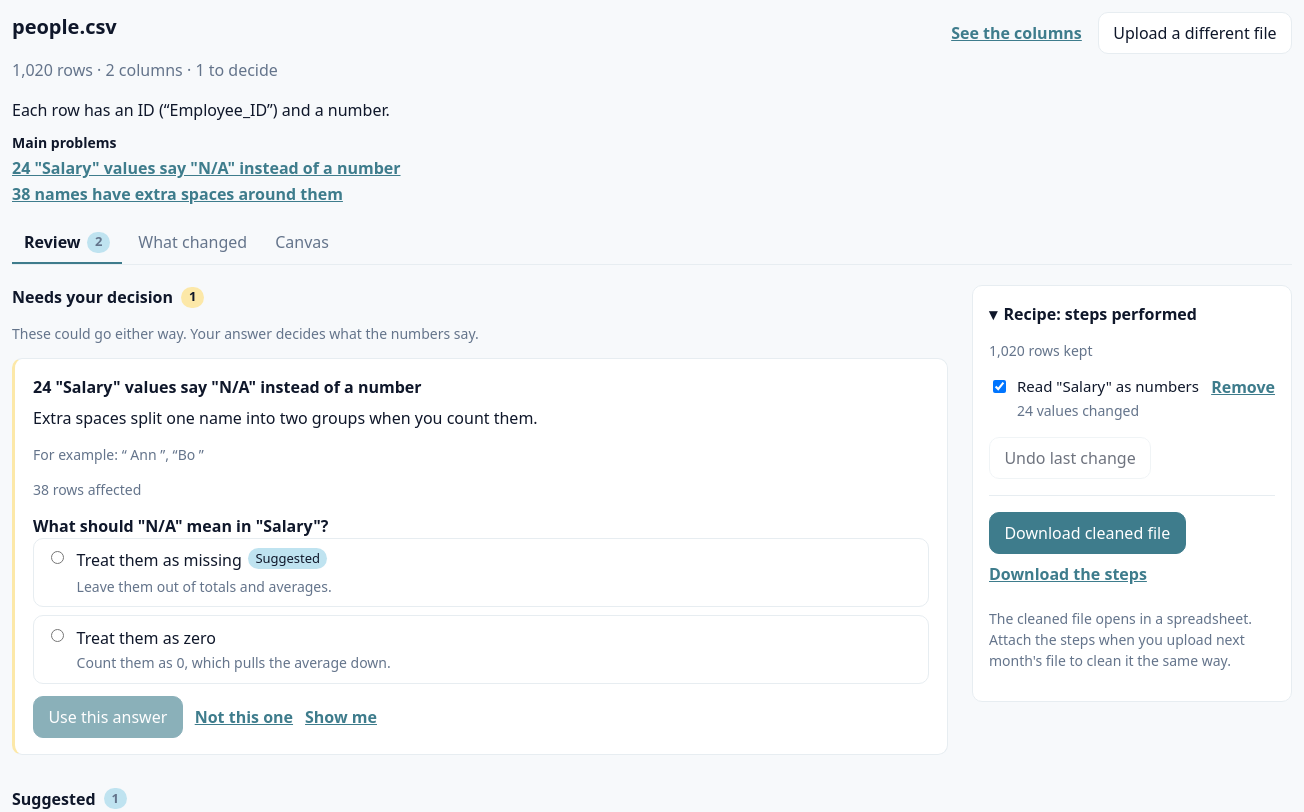
Test: ReviewPage › opens the canvas on a third tab, with the recipe still in view
Click the tab "Canvas" at coordinates (302, 243), box [263,222,341,264]
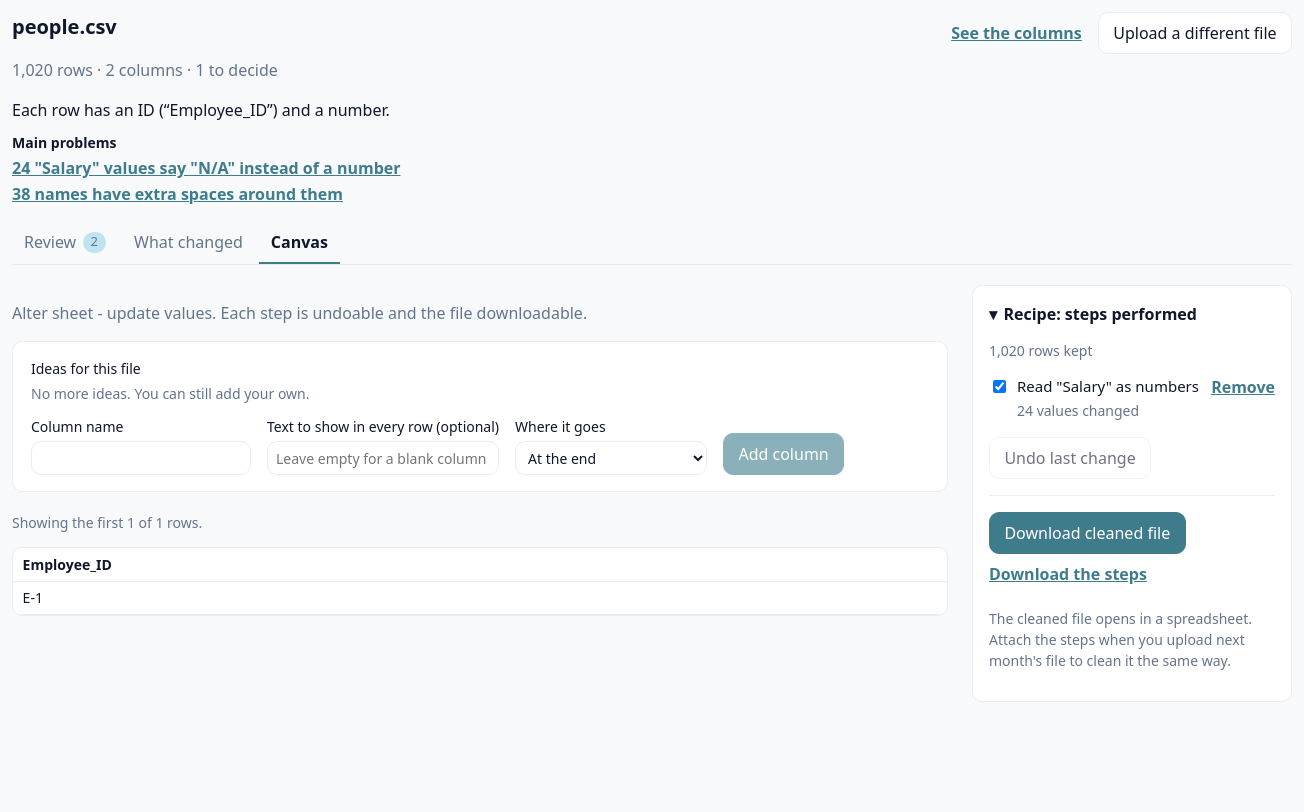
Check: the element "Recipe: steps performed" is shown, box [972,285,1292,702]
Check: the button "Add column" is shown, box [723,433,844,475]
